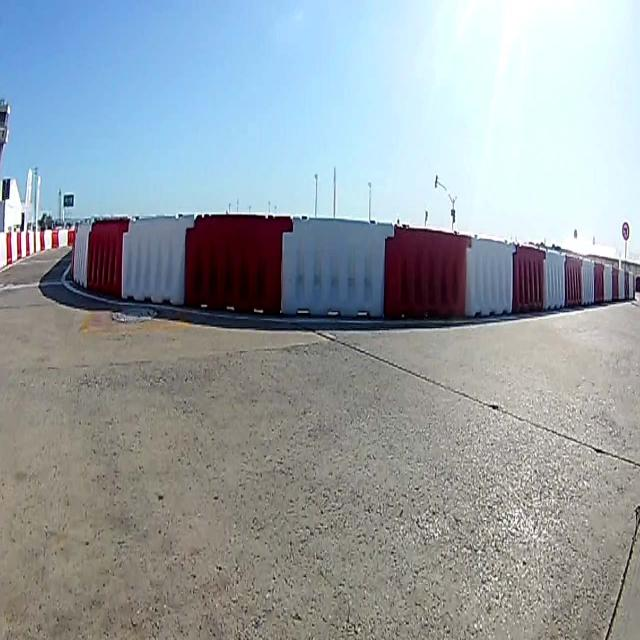soladonulmez: (621, 220, 631, 240)
